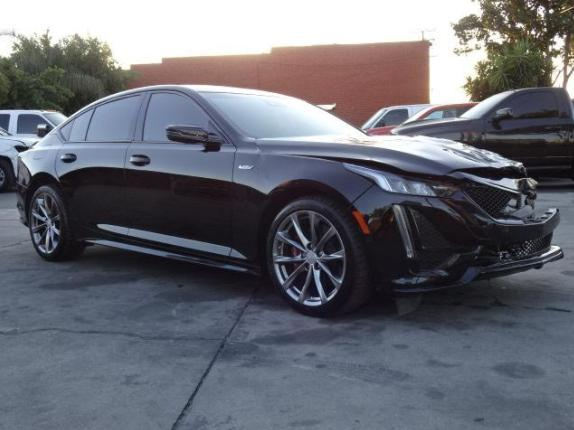Back-bumper: (16, 183, 29, 226)
Back-door: (55, 90, 146, 238)
Back-wheel: (29, 180, 84, 262)
Back-window: (68, 95, 142, 141), (58, 119, 72, 140)
Fender: (226, 152, 374, 264)
Front-bumper: (350, 184, 563, 296)
Front-door: (123, 90, 237, 258)
Front-wheel: (266, 193, 375, 318)
Front-window: (142, 92, 228, 143)
Grille: (457, 177, 535, 219)
Headlight: (342, 162, 454, 198)
Hood: (255, 133, 523, 176)
Mirror: (165, 125, 223, 143)
Quarter-panel: (16, 134, 76, 223)
Rocker-panel: (76, 231, 263, 281)
Roof: (56, 84, 303, 127)
Windshield: (199, 93, 367, 138)
